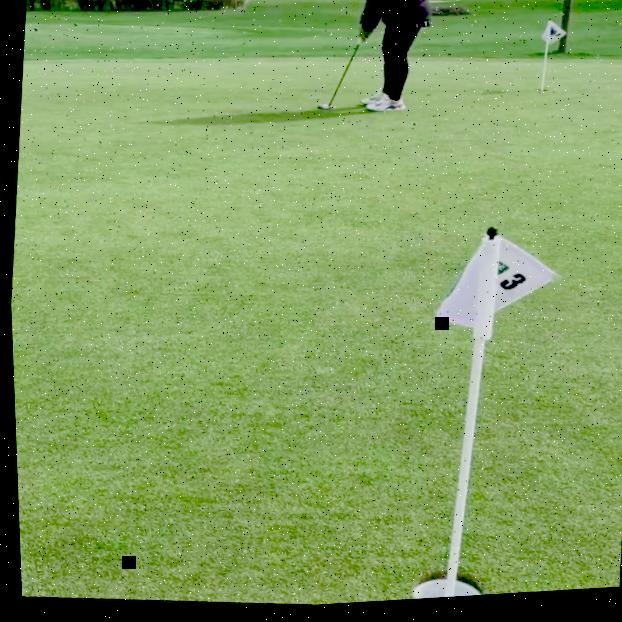ClubHead: (317, 107, 329, 115)
GolfBall: (322, 106, 328, 112)
